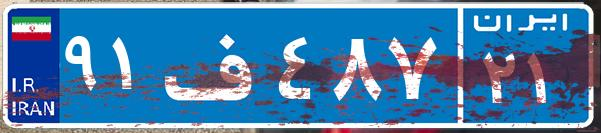1: (110, 28, 158, 105), (525, 38, 570, 115)
2: (475, 38, 525, 113)
4: (273, 28, 330, 110)
7: (385, 28, 445, 110)
8: (330, 28, 385, 110)
9: (57, 26, 110, 107)
ف: (158, 15, 273, 115)
